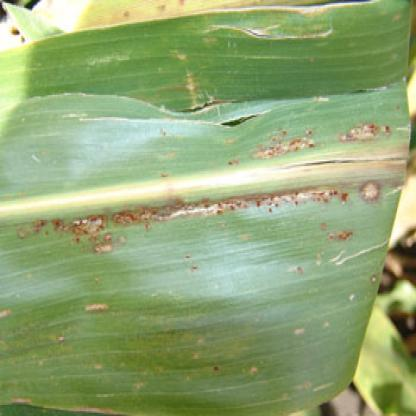corn rust leaf: (11, 59, 414, 395)
